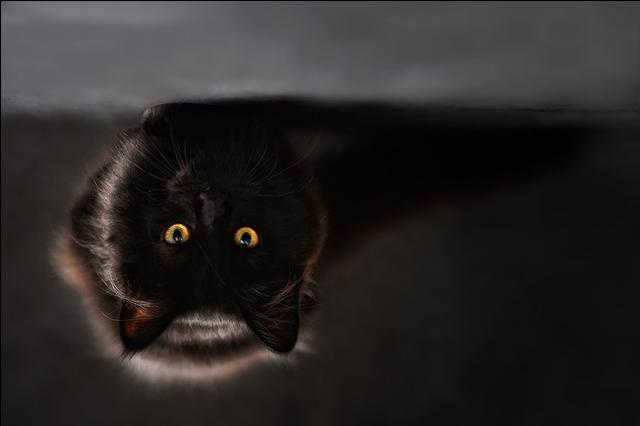cat: (48, 100, 589, 389)
